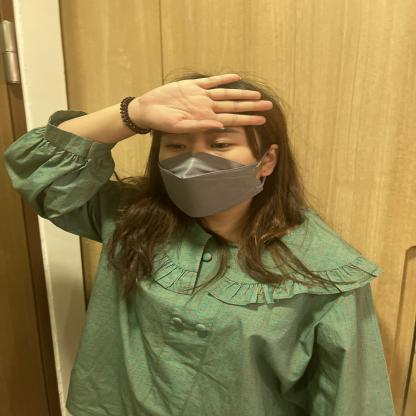Sick: (57, 57, 313, 174)
